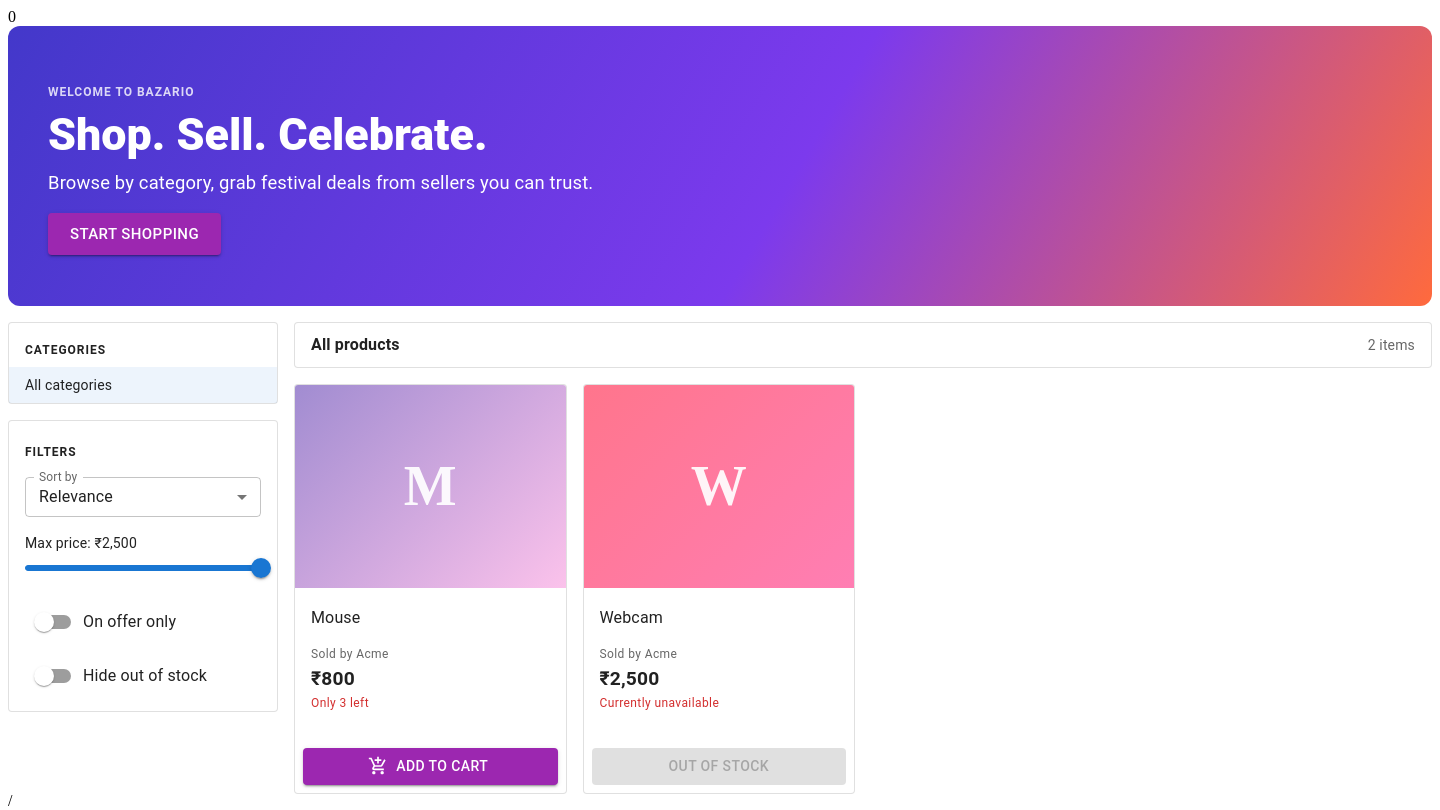
Test: ProductList › hides out-of-stock products when the filter is switched on
The image size is (1440, 810).
Expected: the heading "Webcam" is shown, [600,608,663,627]
Click the switch labelled "Hide out of stock" at (121, 676), box [34,666,207,686]
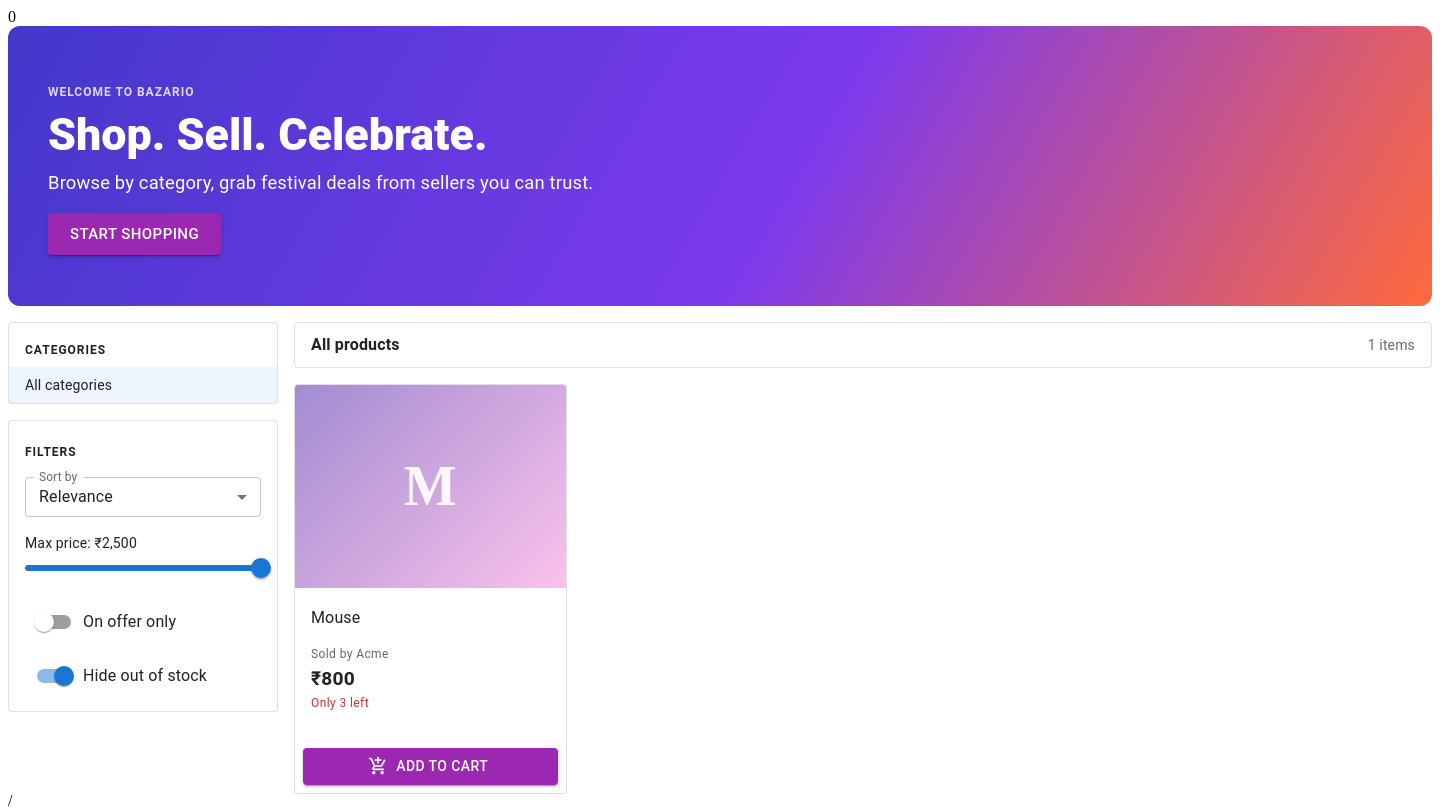
Expected: the heading "Mouse" is shown, [311,608,360,627]
Now the link "Webcam" is gone
